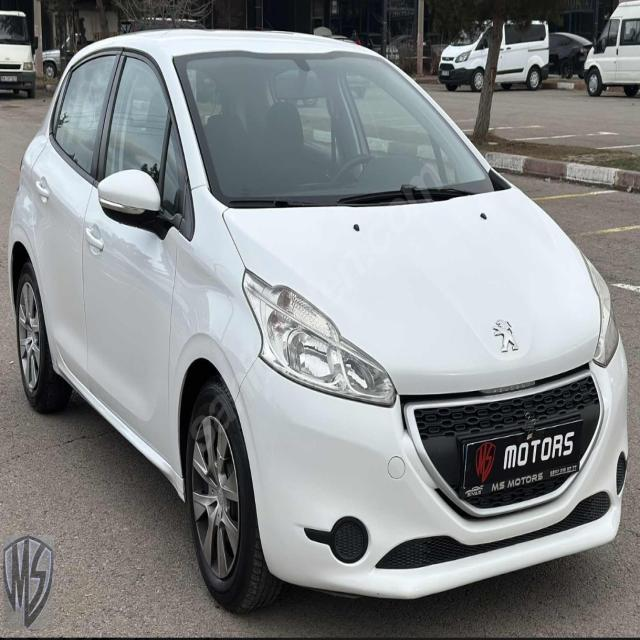pegout: (488, 313, 522, 359)
